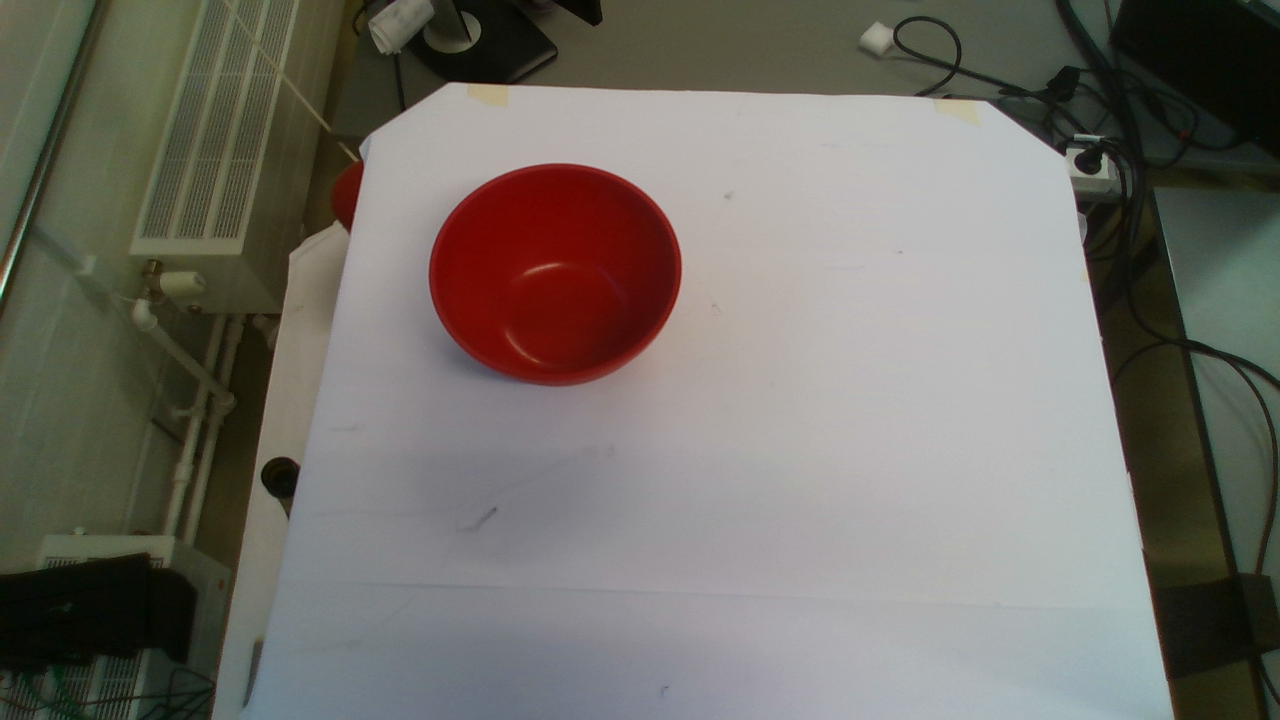bowl: (427, 161, 683, 394)
